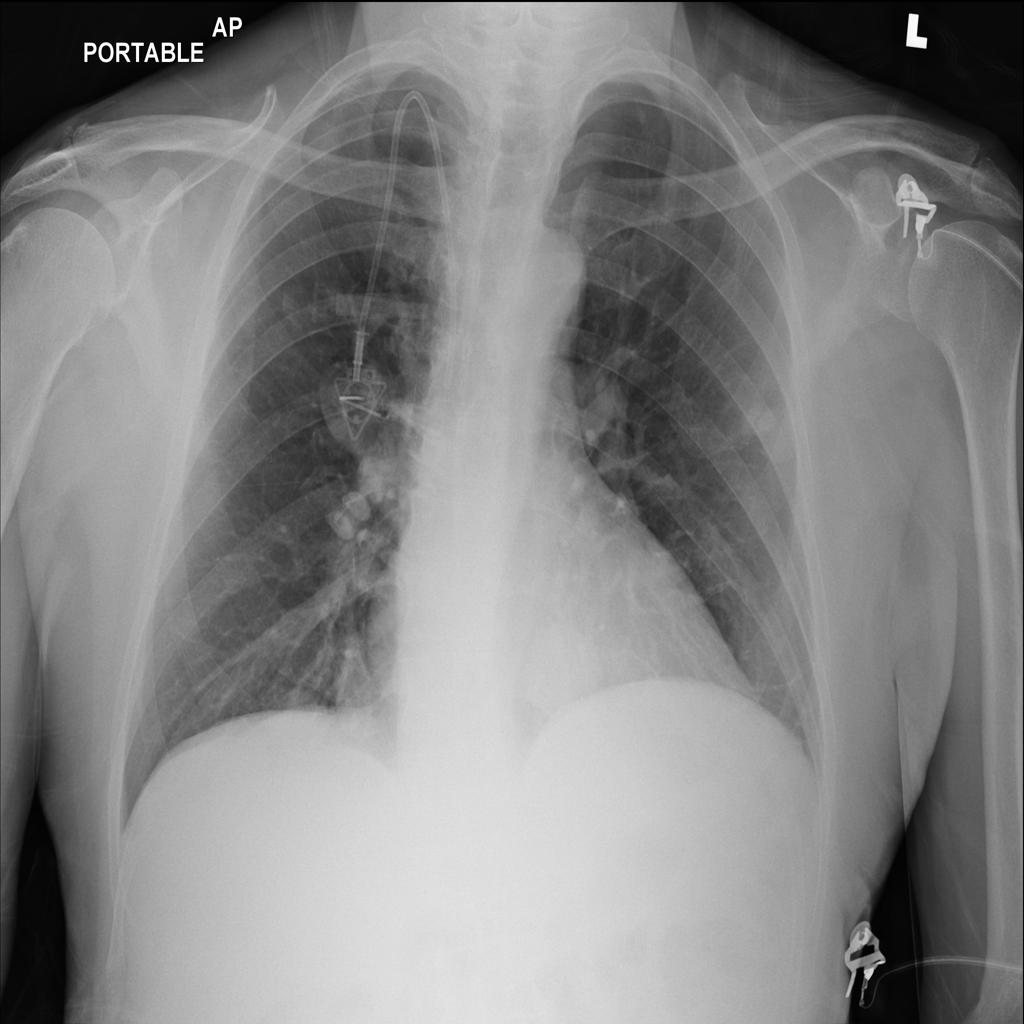nodule: (519, 601, 610, 730), (261, 666, 335, 743), (730, 384, 795, 463)
